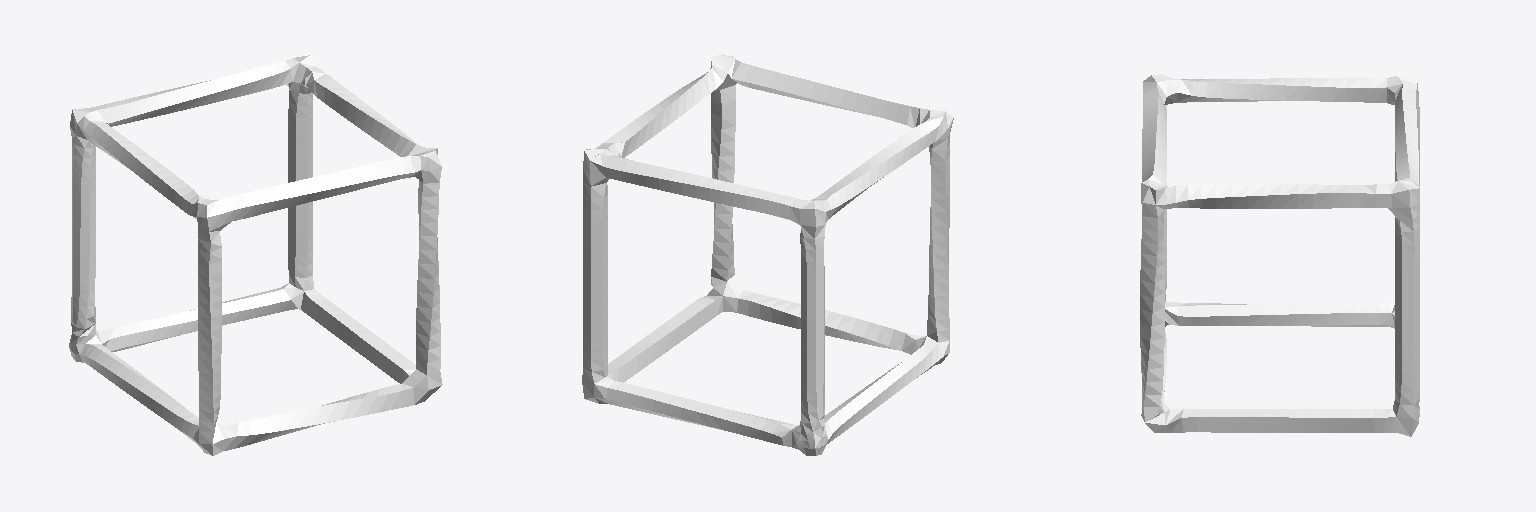
The model's file is playcube06.obj.
The picture shows the model from 3 angles: view 1: azimuth 30°, elevation 25°; view 2: azimuth 150°, elevation 25°; view 3: azimuth 270°, elevation 25°; orthographic projection.
Parts seen in each view (by area): view 1: Volume18; view 2: Volume18; view 3: Volume18.
Boxes of the visible parts, box(x1,y1,x2,y2) form: Volume18: box(69, 55, 442, 455); Volume18: box(582, 55, 953, 455); Volume18: box(1140, 74, 1419, 436).
Size of the model in its own units: 221 by 222 by 224.